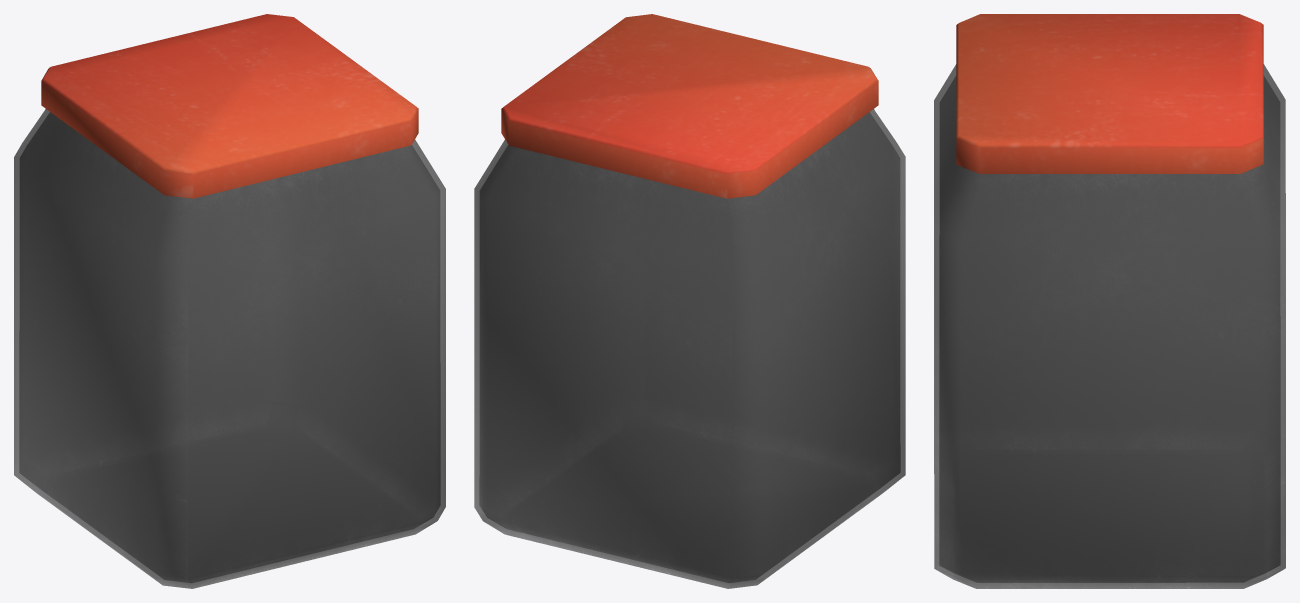
File: dagasibottle01.fbx
The picture shows the model from 3 angles, left to right: view 1: azimuth 30°, elevation 25°; view 2: azimuth 150°, elevation 25°; view 3: azimuth 270°, elevation 25°; orthographic projection. The views are drawn at different scales.
Visible parts, largest first — view 1: dagasibottle01; view 2: dagasibottle01; view 3: dagasibottle01.
Part boxes in pixels (box(x1,y1,x2,y2)): dagasibottle01: box(14, 14, 445, 588); dagasibottle01: box(474, 14, 905, 588); dagasibottle01: box(934, 14, 1285, 588).
Size of the model in its own units: 22.58 by 30.78 by 22.17.
